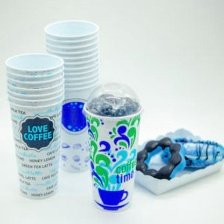paper_cup: (39, 15, 107, 175), (1, 48, 69, 202), (75, 77, 146, 217)
